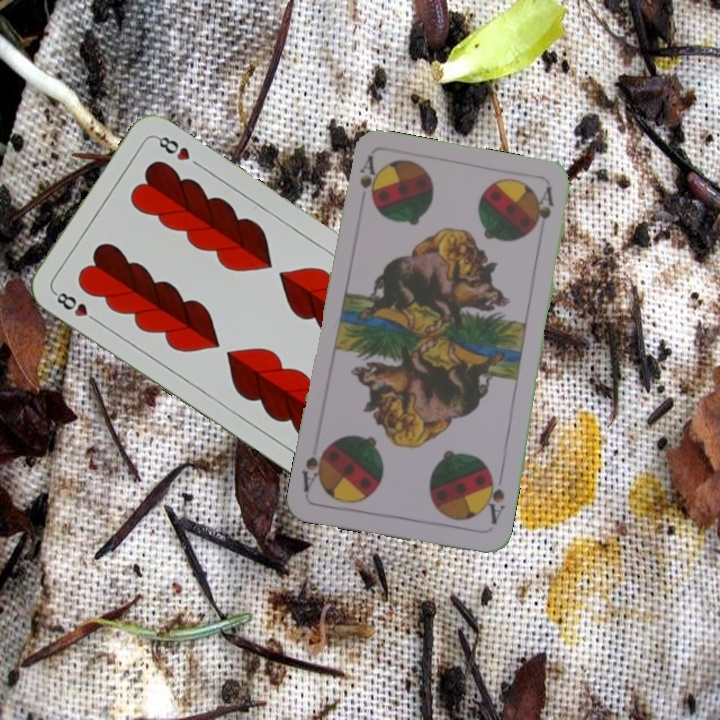H8: (49, 287, 102, 326)
SA: (480, 469, 508, 527), (355, 152, 381, 206)
